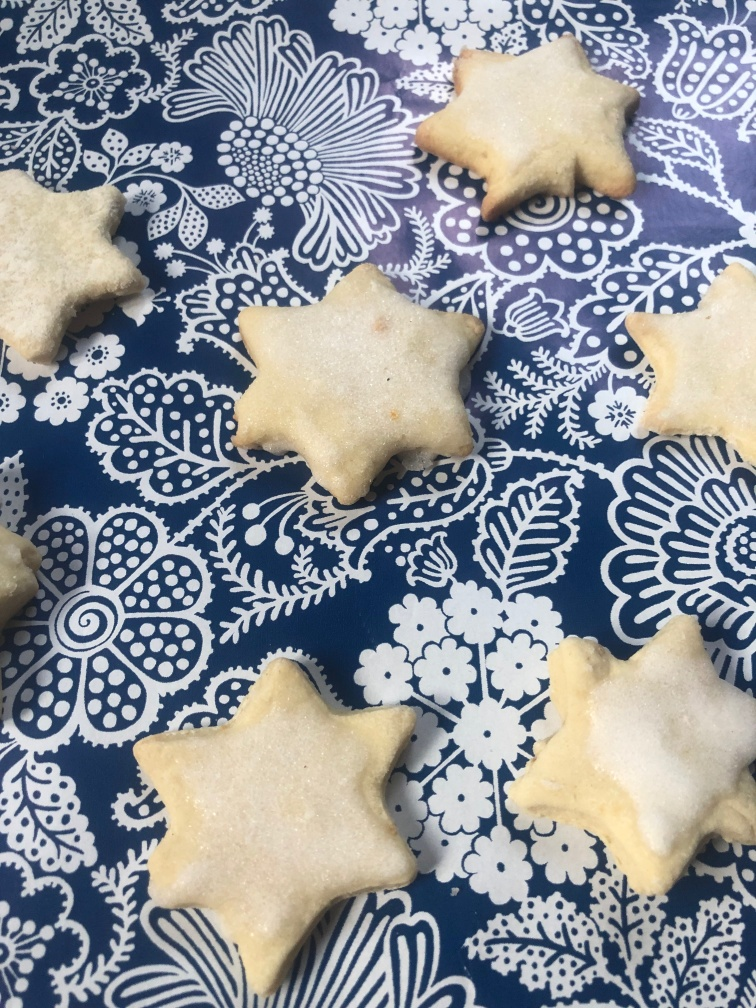star: (124, 651, 429, 992), (503, 604, 755, 889), (216, 261, 499, 500), (414, 26, 650, 224), (1, 162, 159, 363), (622, 250, 756, 480)
